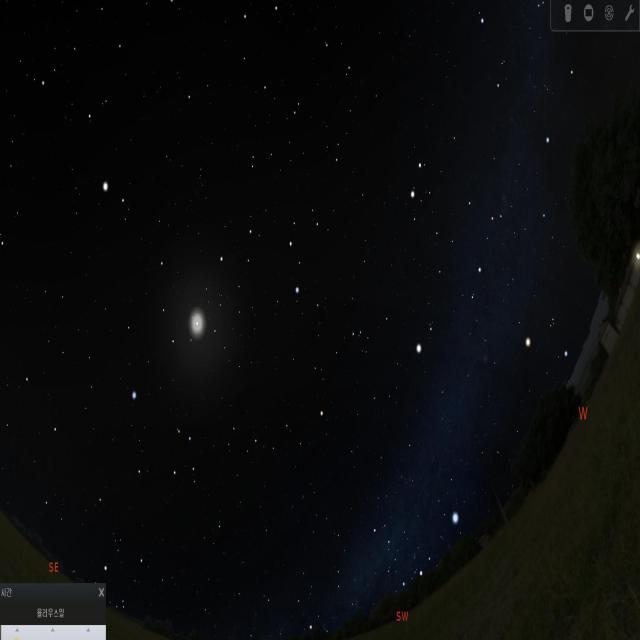bootes: (65, 0, 136, 213)
canis_minor: (415, 312, 439, 364)
gemini: (404, 144, 501, 294)
leo: (213, 196, 329, 306)
moon: (175, 284, 223, 370)
